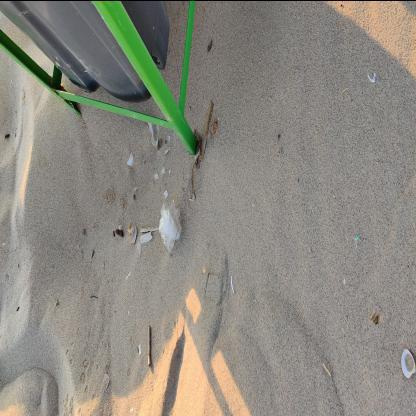plastik: (160, 199, 183, 253)
